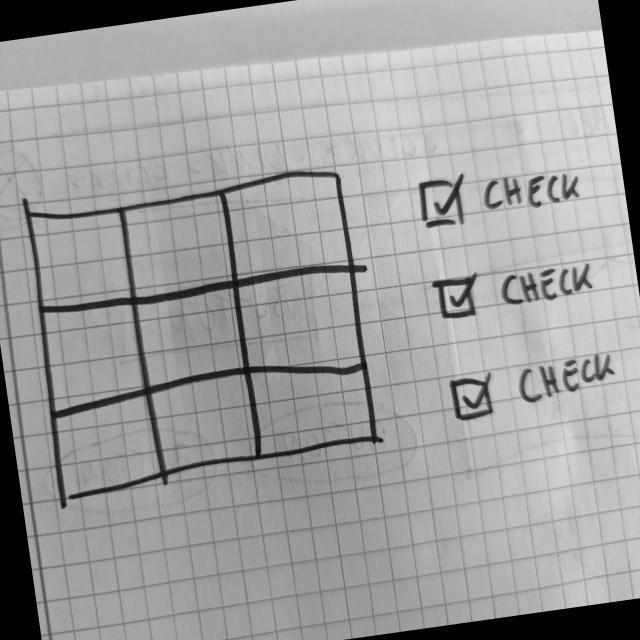checkbox: (416, 155, 591, 233), (449, 350, 627, 425), (432, 252, 600, 327)
table: (16, 164, 388, 507)
